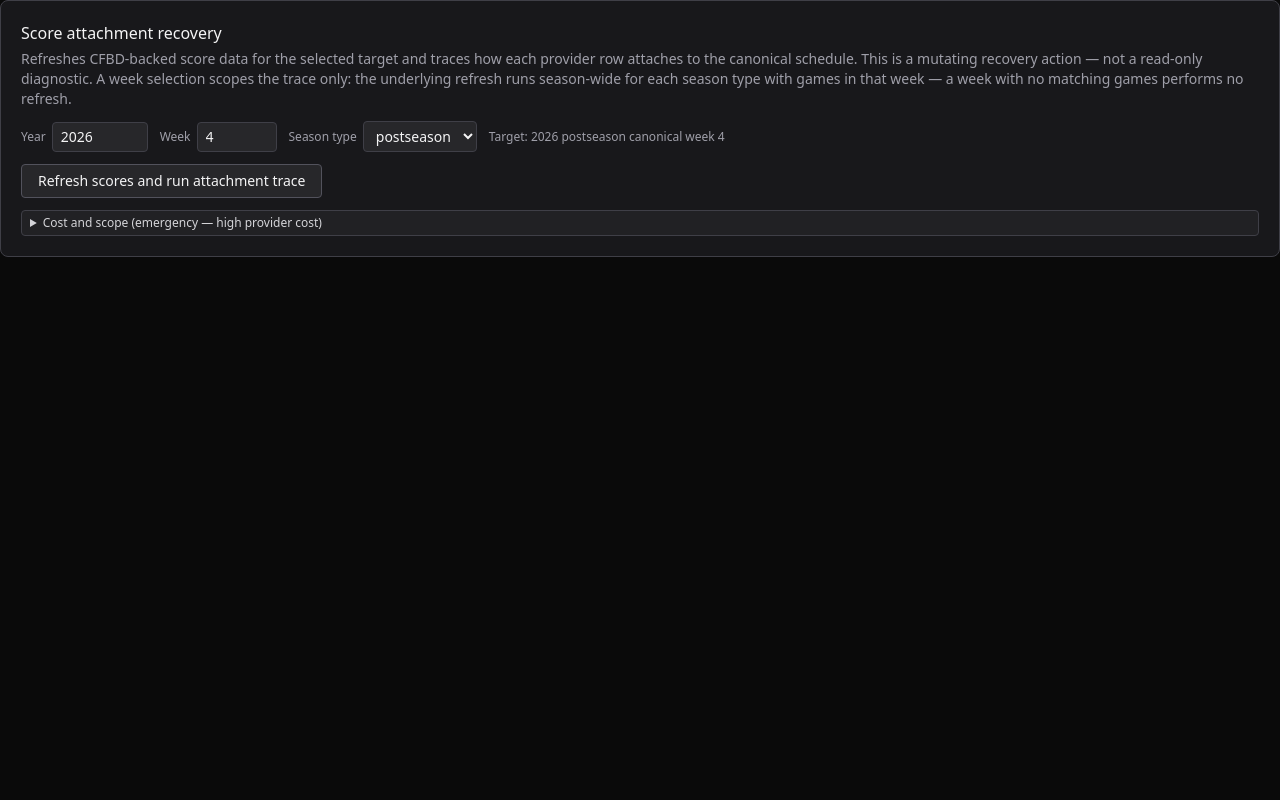
it: a confirmed targeted run carries the exact week and seasonType params; result renders counts + caveat
This screenshot has width=1280, height=800.
Click the button "Refresh scores and run attachment trace": click(172, 181) [21, 164, 322, 198]
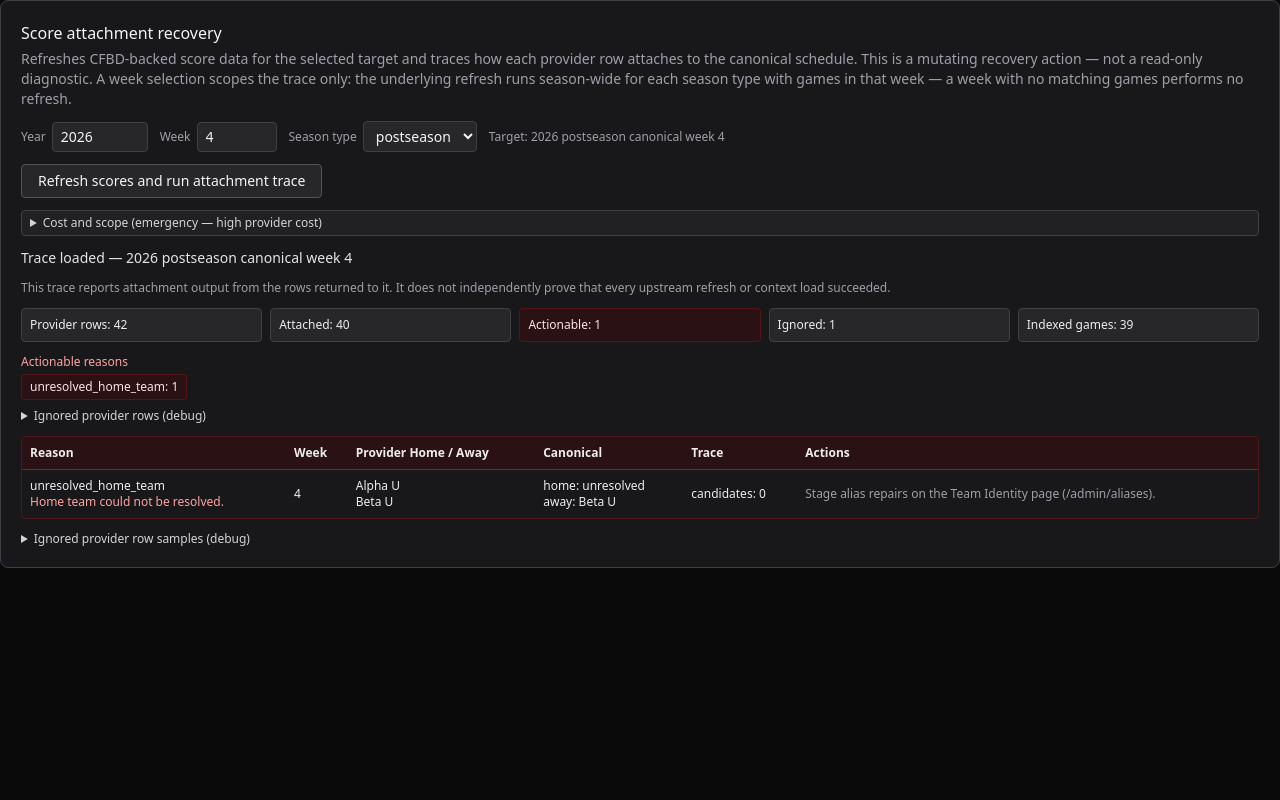
expect the text "Provider rows: 42" is shown: met, box [21, 308, 262, 342]
expect the text "Attached: 40" is shown: met, box [270, 308, 511, 342]
expect the text "Actionable: 1" is shown: met, box [519, 308, 761, 342]
